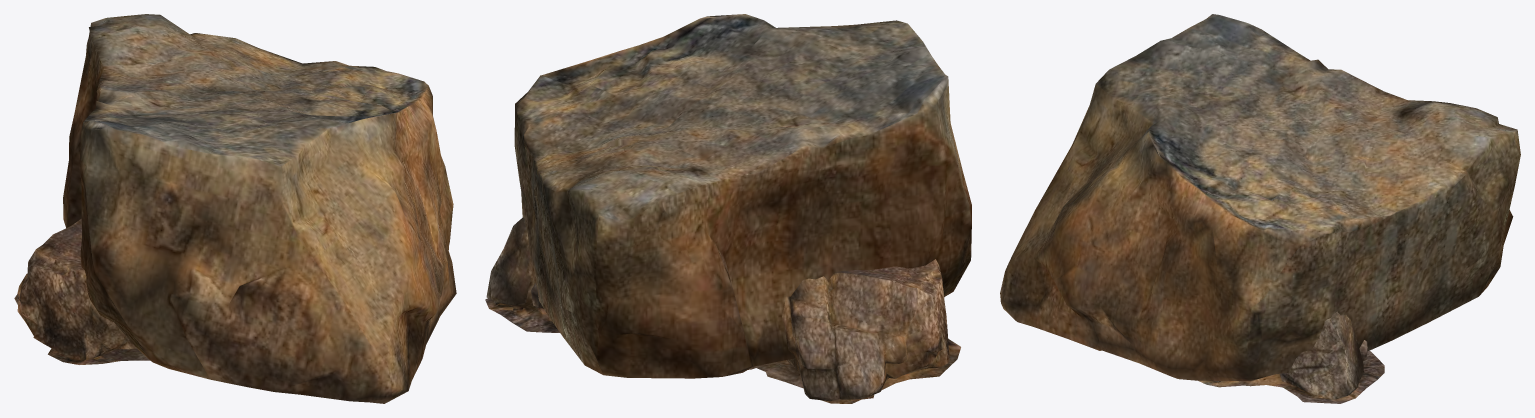
File: rocks.glb
3 views of the same model, side by side, from view 1: azimuth 30°, elevation 25°; view 2: azimuth 150°, elevation 25°; view 3: azimuth 270°, elevation 25° (orthographic). The views are drawn at different scales.
Parts seen in each view (by area): view 1: rock1, rock0; view 2: rock1, rock0; view 3: rock1, rock0.
Part boxes in pixels (x1,y1,x2,y2): rock1: (63, 14, 456, 403); rock0: (14, 219, 149, 364); rock1: (514, 14, 971, 378); rock0: (485, 217, 960, 403); rock1: (1000, 14, 1520, 381); rock0: (1198, 311, 1384, 403).
Bounding box in the file's own units: 2.53 × 1.52 × 3.06.
3 materials, 3 textured.
